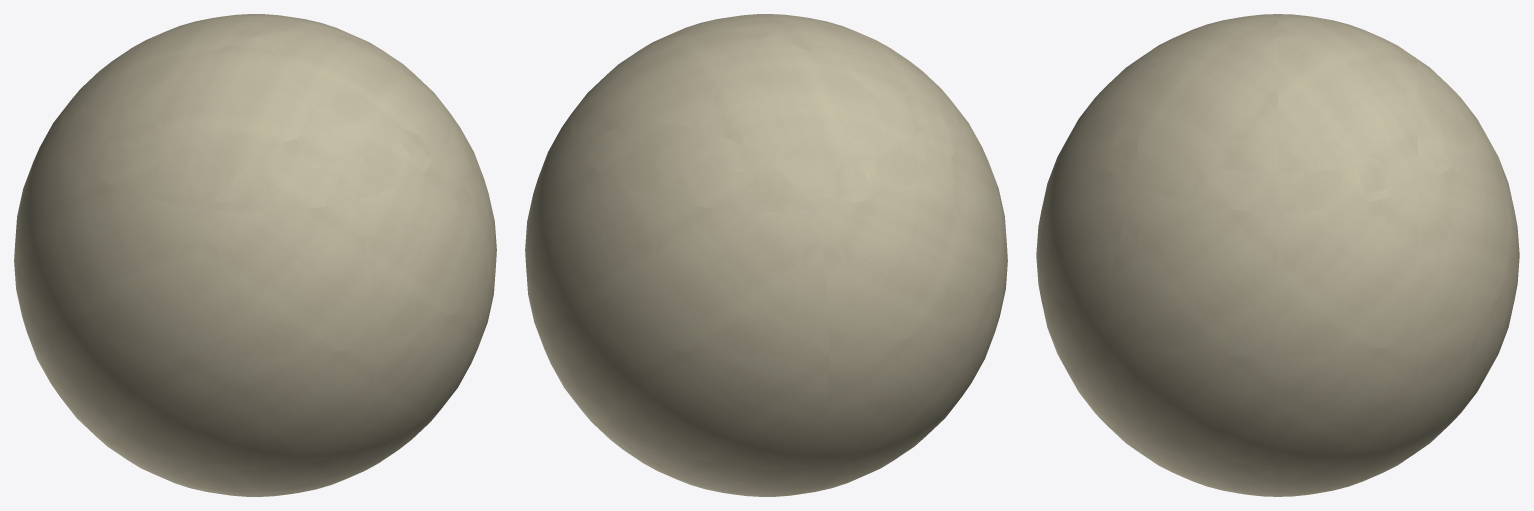
Rendered from prichal.glb.
The picture shows the model from 3 angles, left to right: view 1: azimuth 30°, elevation 25°; view 2: azimuth 150°, elevation 25°; view 3: azimuth 270°, elevation 25°; orthographic projection.
Visible parts, largest first — view 1: prichal_detailed; view 2: prichal_detailed; view 3: prichal_detailed.
Part boxes in pixels (<box>): prichal_detailed: <box>14,14,496,496</box>; prichal_detailed: <box>525,14,1007,496</box>; prichal_detailed: <box>1036,14,1519,496</box>.
Size of the model in its own units: 3.46 by 3.46 by 3.46.
7 materials, 5 textured.
